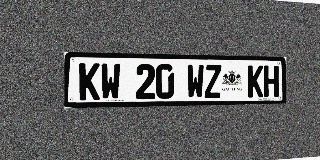0: (156, 64, 174, 99)
2: (136, 64, 155, 99)
H: (264, 65, 279, 97)
K: (79, 63, 100, 100), (248, 65, 263, 97)
W: (101, 63, 121, 100), (187, 64, 204, 98)
Z: (205, 65, 221, 98)
